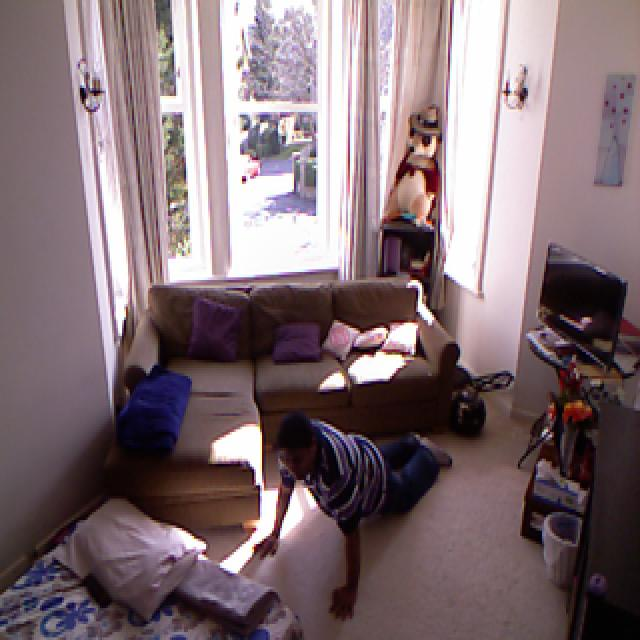crawling: (253, 411, 452, 622)
